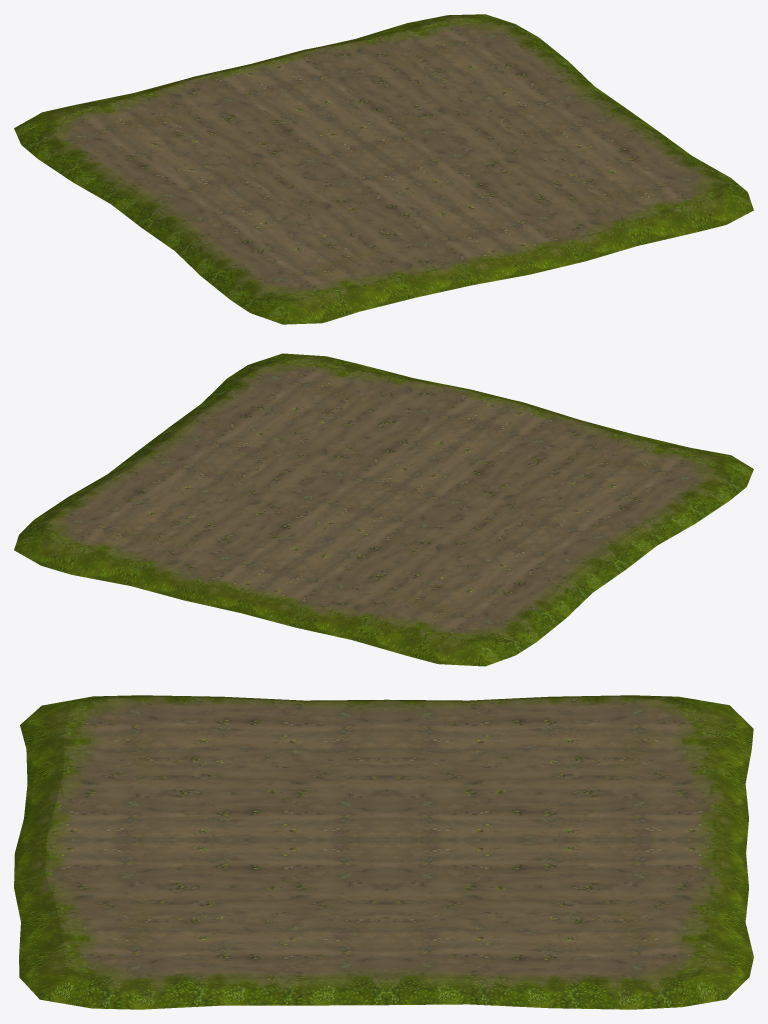
The model's file is DN_vegetable_field.FBX.
The picture shows the model from 3 angles, top to bottom: view 1: azimuth 30°, elevation 25°; view 2: azimuth 150°, elevation 25°; view 3: azimuth 270°, elevation 25°; orthographic projection. The views are drawn at different scales.
Parts seen in each view (by area): view 1: DN_vegetable_field; view 2: DN_vegetable_field; view 3: DN_vegetable_field.
Boxes of the visible parts, <box> form: DN_vegetable_field: <box>14,14,753,324</box>; DN_vegetable_field: <box>14,353,753,666</box>; DN_vegetable_field: <box>14,695,753,1009</box>.
Bounding box in the file's own units: 1030 × 20.25 × 1029.
